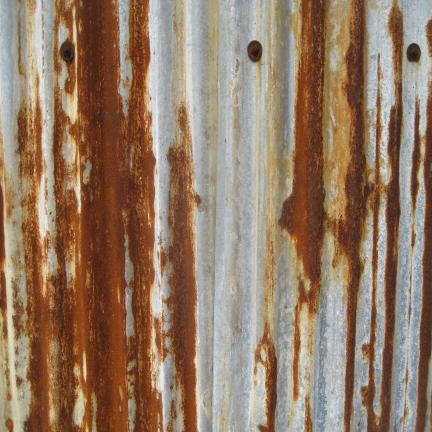karat: (10, 0, 153, 431)
